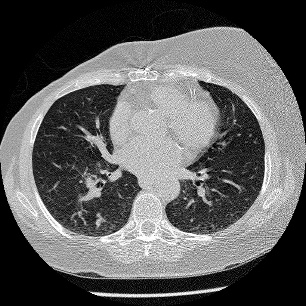PN: (96, 220, 100, 224)
